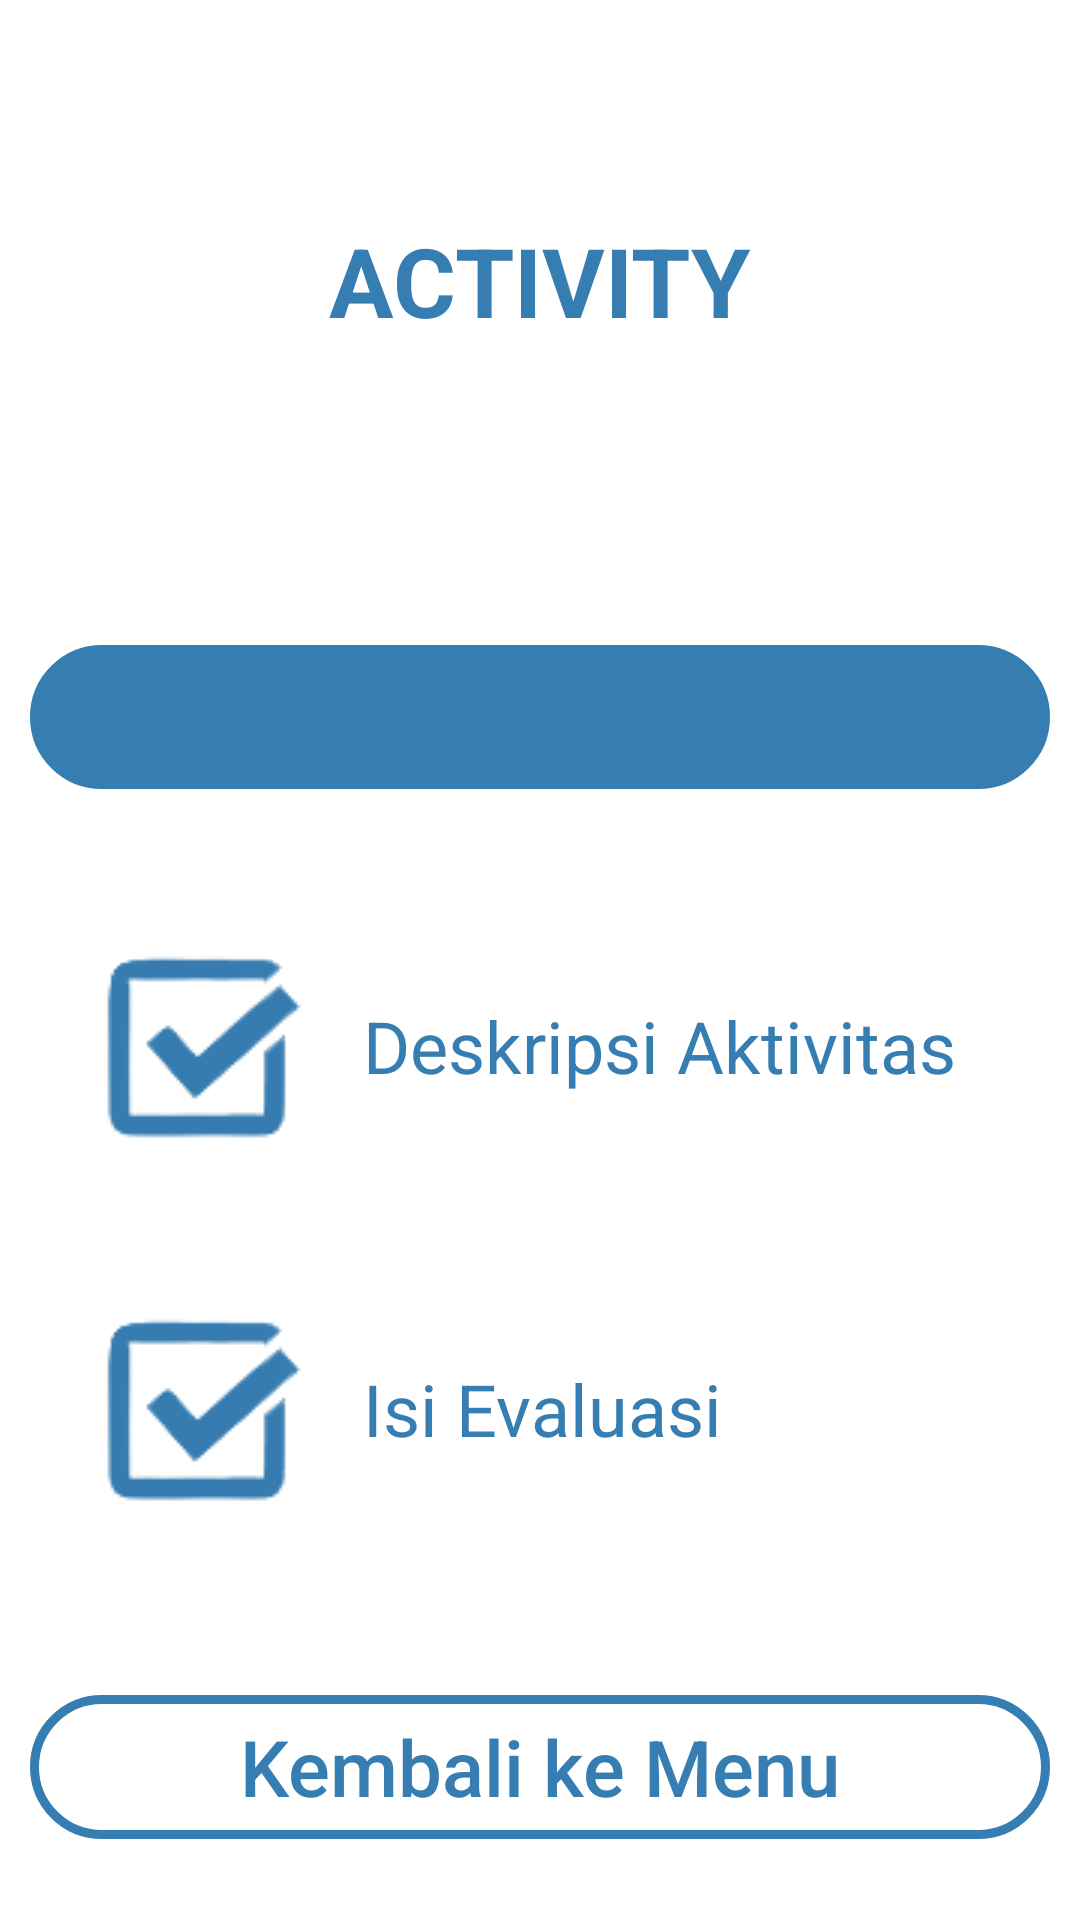

Point at icon controls on the screen. Image size 1080 × 1920, points as (x,y).
centang: (204,1047), (204,1410)
